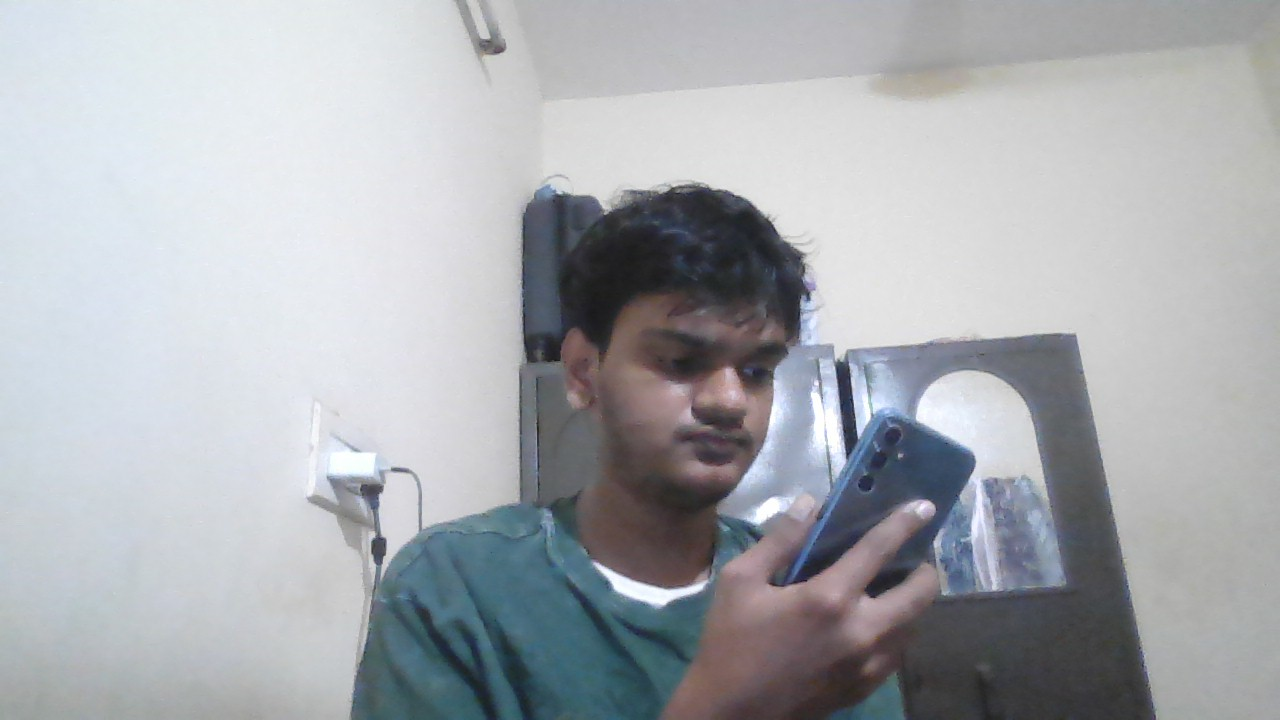phone: (838, 415, 973, 513)
